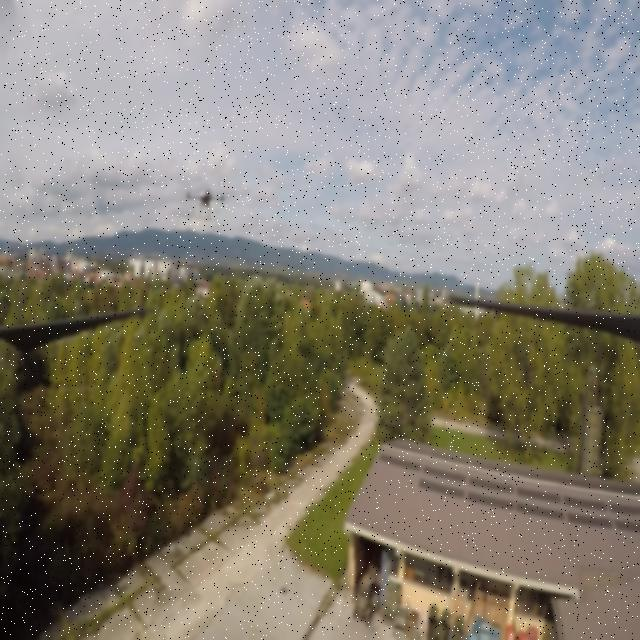UAV: (186, 182, 228, 225)
